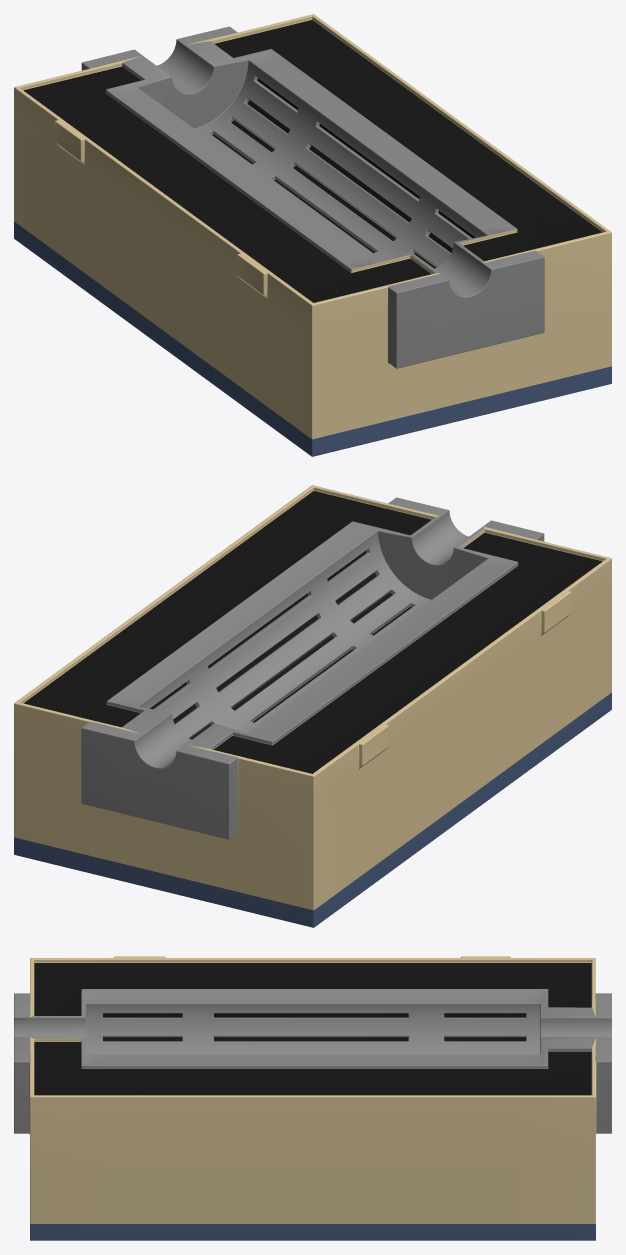
Rendered from Upper_2B.fbx.
3 renders of one model, top to bottom at view 1: azimuth 30°, elevation 25°; view 2: azimuth 150°, elevation 25°; view 3: azimuth 270°, elevation 25°, orthographic. The views are drawn at different scales.
Visible parts, largest first — view 1: Upper_2B; view 2: Upper_2B; view 3: Upper_2B.
Boxes of the visible parts, x1,y1,x2,y2 form: Upper_2B: (14, 14, 611, 456); Upper_2B: (14, 485, 611, 927); Upper_2B: (14, 956, 611, 1240).
Bounding box in the file's own units: 43.97 × 21 × 78.9.
